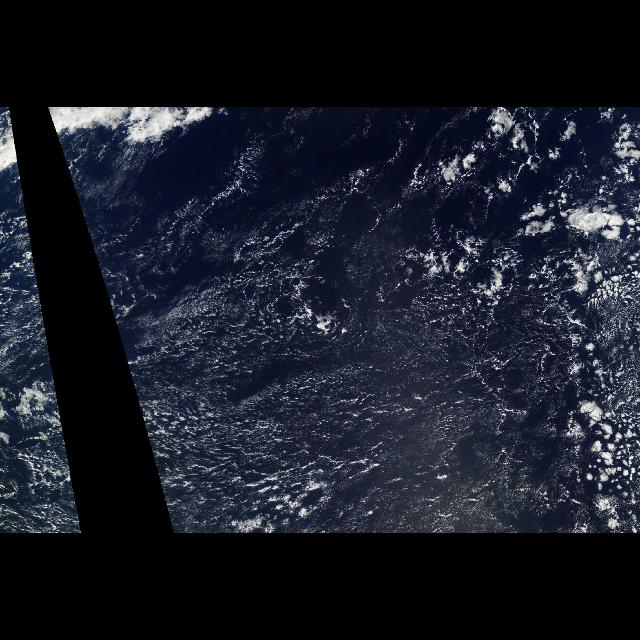Gravel: (70, 179, 392, 527), (4, 179, 80, 527)
Sugar: (152, 323, 554, 461), (349, 467, 553, 529)
